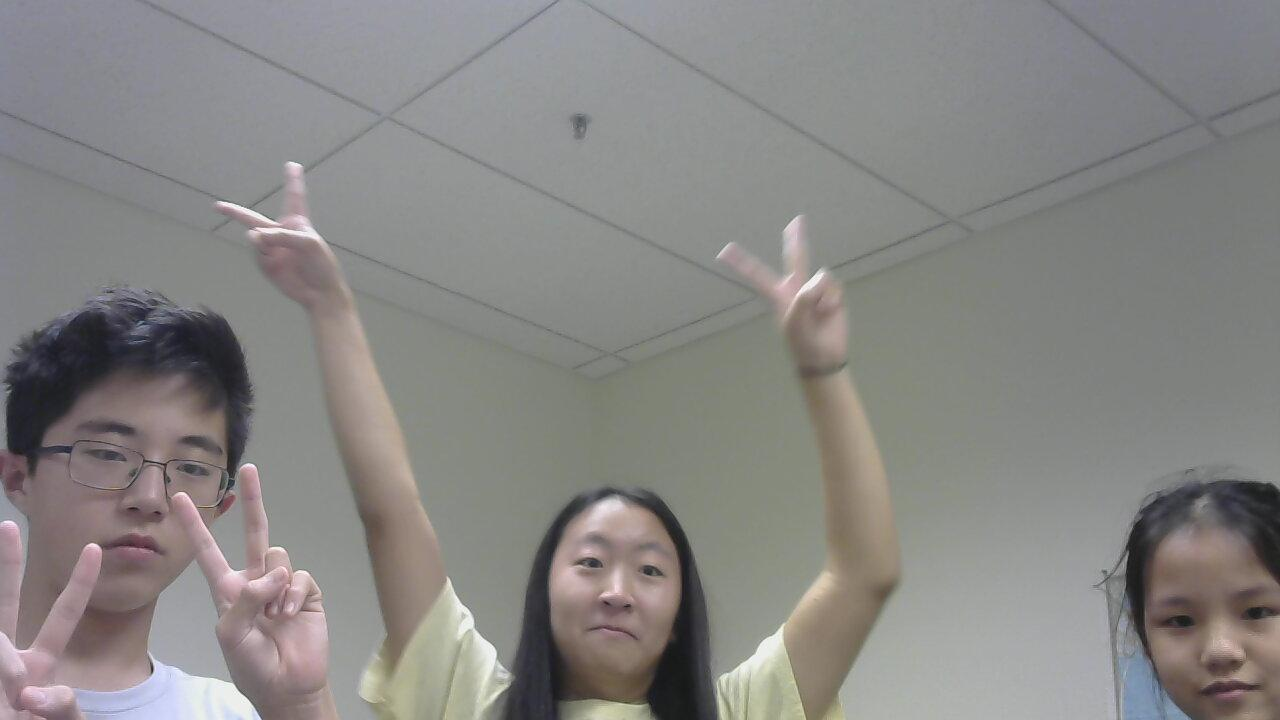peace: (161, 462, 341, 694), (708, 212, 874, 380), (211, 157, 357, 330), (3, 502, 112, 719)
